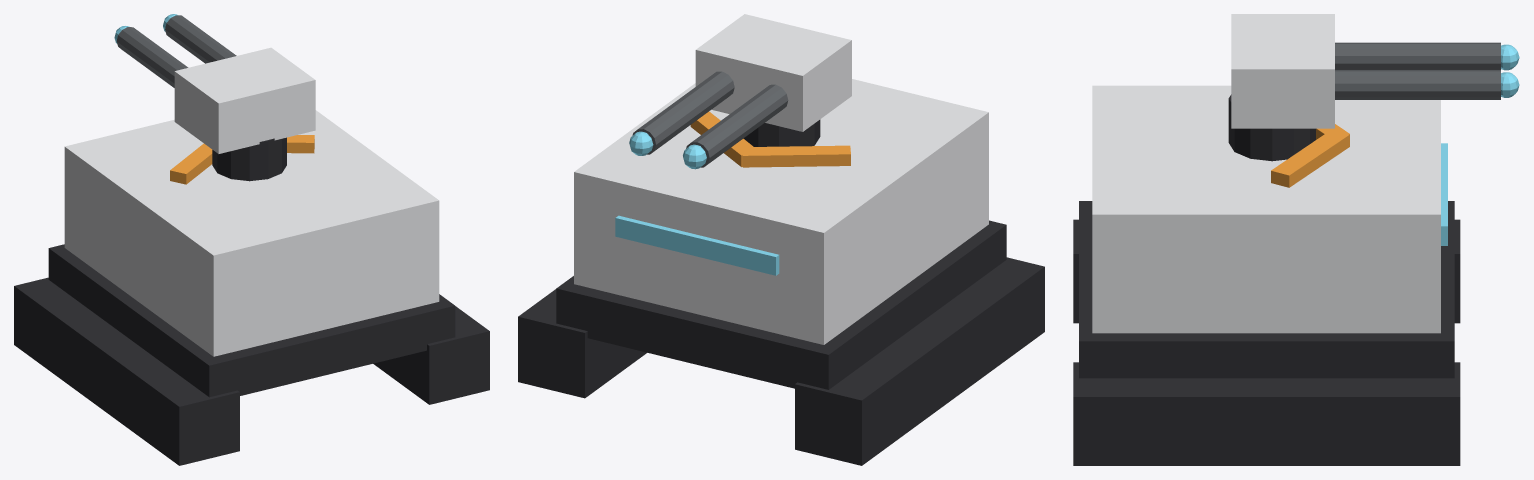
Rendered from SM_Unit_SentinelMech.glb.
3 renders of one model, left to right at view 1: azimuth 30°, elevation 25°; view 2: azimuth 150°, elevation 25°; view 3: azimuth 270°, elevation 25°, orthographic. The views are drawn at different scales.
Visible parts, largest first — view 1: SM_Unit_SentinelMech; view 2: SM_Unit_SentinelMech; view 3: SM_Unit_SentinelMech.
Boxes of the visible parts, x1=… form: SM_Unit_SentinelMech: x1=14, y1=14, x2=489, y2=465; SM_Unit_SentinelMech: x1=518, y1=14, x2=1044, y2=465; SM_Unit_SentinelMech: x1=1073, y1=14, x2=1519, y2=465.
Size of the model in its own units: 1.54 by 1.36 by 1.64.
